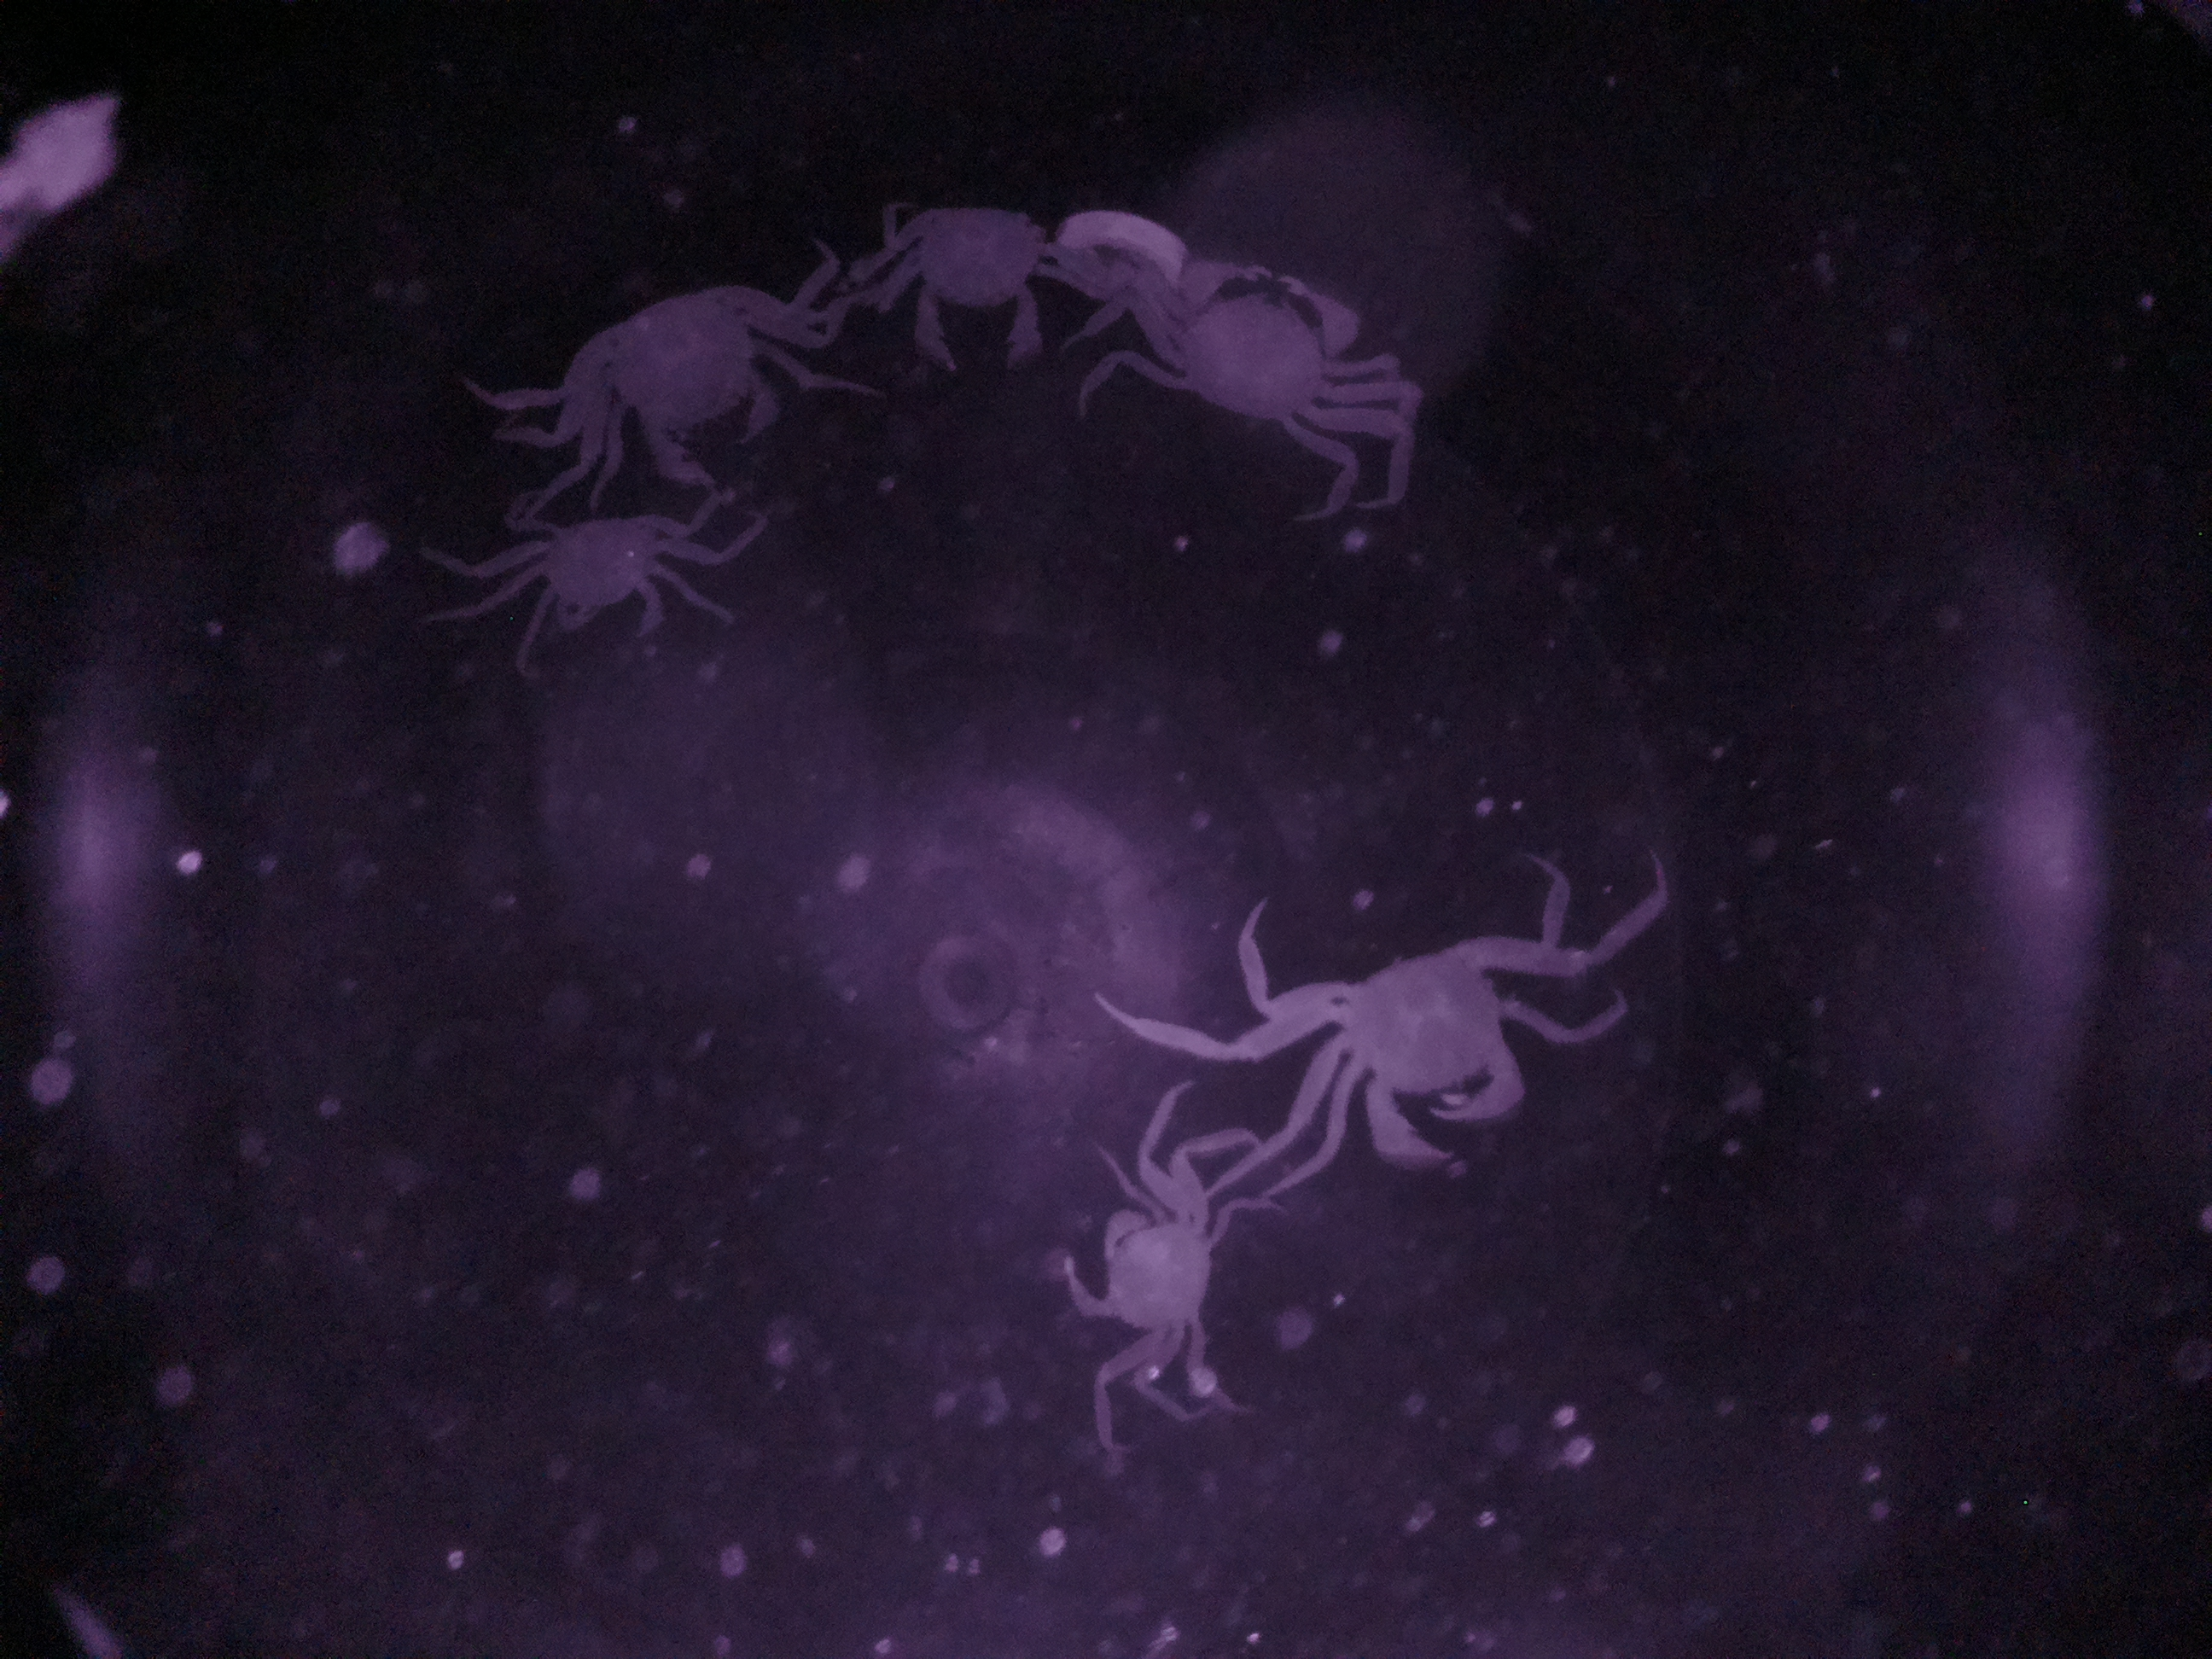Crab: (1249, 910, 1559, 1176), (575, 261, 817, 498), (1134, 244, 1379, 465), (1061, 1150, 1249, 1396), (869, 183, 1078, 397), (496, 497, 718, 659)
